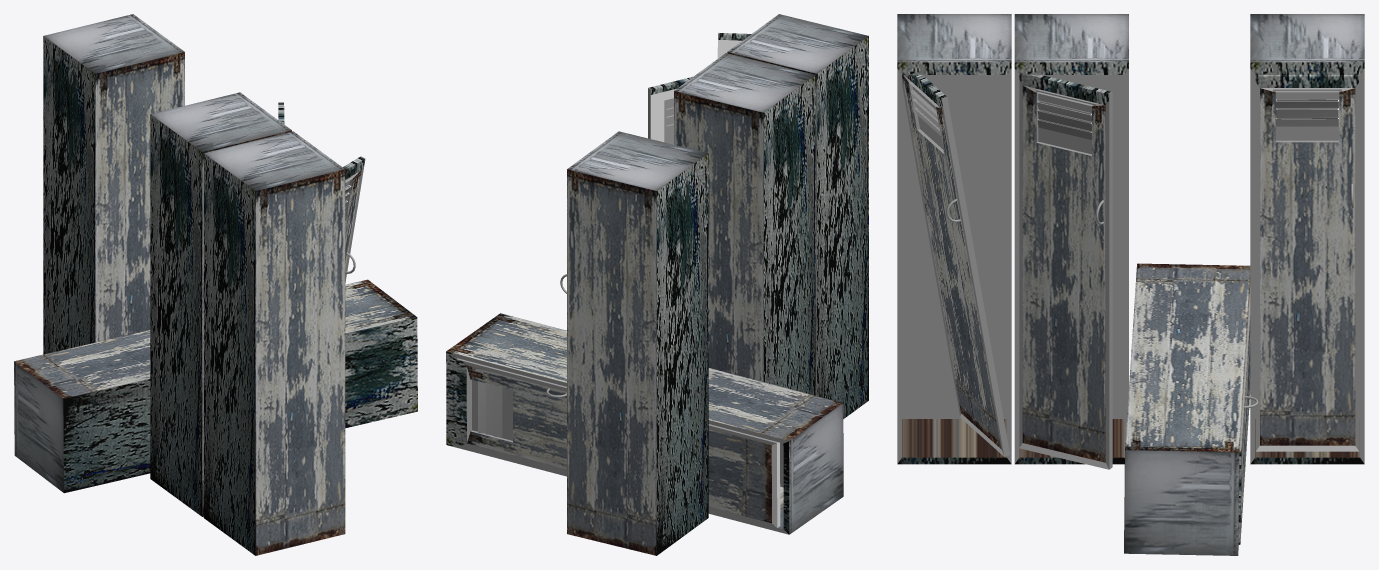
The model's file is lockerTrash.fbx.
3 renders of one model, left to right at view 1: azimuth 30°, elevation 25°; view 2: azimuth 150°, elevation 25°; view 3: azimuth 270°, elevation 25°, orthographic. The views are drawn at different scales.
Visible parts, largest first — view 1: polySurface18; view 2: polySurface18; view 3: polySurface18.
Part boxes in pixels (x1,y1,x2,y2): polySurface18: (14,14,417,555); polySurface18: (446,14,868,555); polySurface18: (897,14,1364,555).
Bounding box in the file's own units: 114 × 114 × 120.
